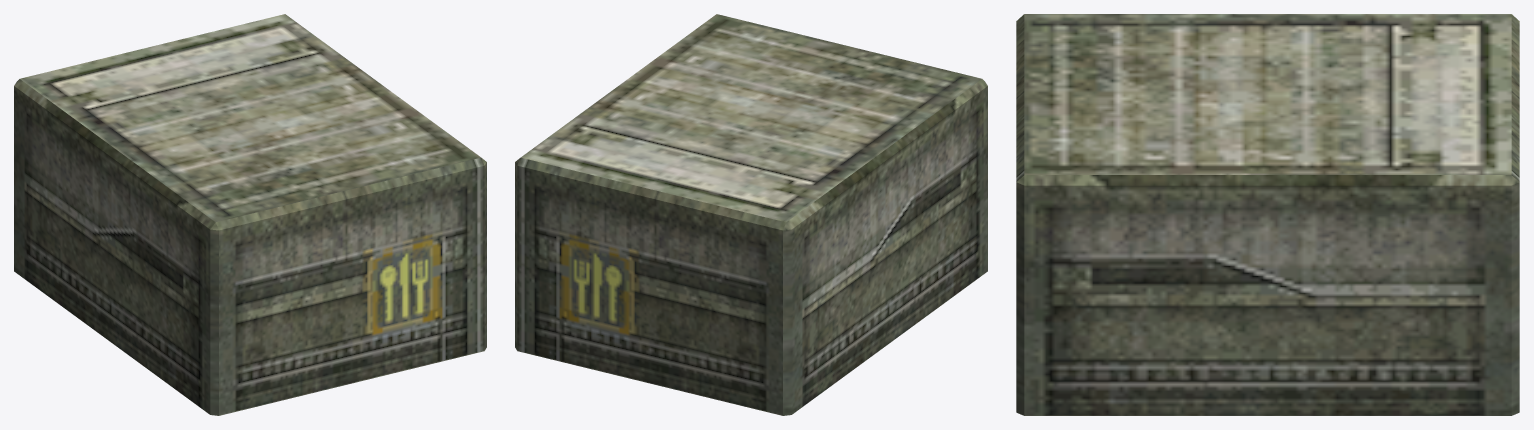
The model's file is con_man_food_lg_l0.fbx.
3 renders of one model, left to right at view 1: azimuth 30°, elevation 25°; view 2: azimuth 150°, elevation 25°; view 3: azimuth 270°, elevation 25°, orthographic. The views are drawn at different scales.
Visible parts, largest first — view 1: mesh_node; view 2: mesh_node; view 3: mesh_node.
Part boxes in pixels (x1,y1,x2,y2): mesh_node: (14,14,486,415); mesh_node: (515,14,987,415); mesh_node: (1016,14,1519,415).
Size of the model in its own units: 1.24 by 0.8161 by 1.57.
1 material, 1 textured.
